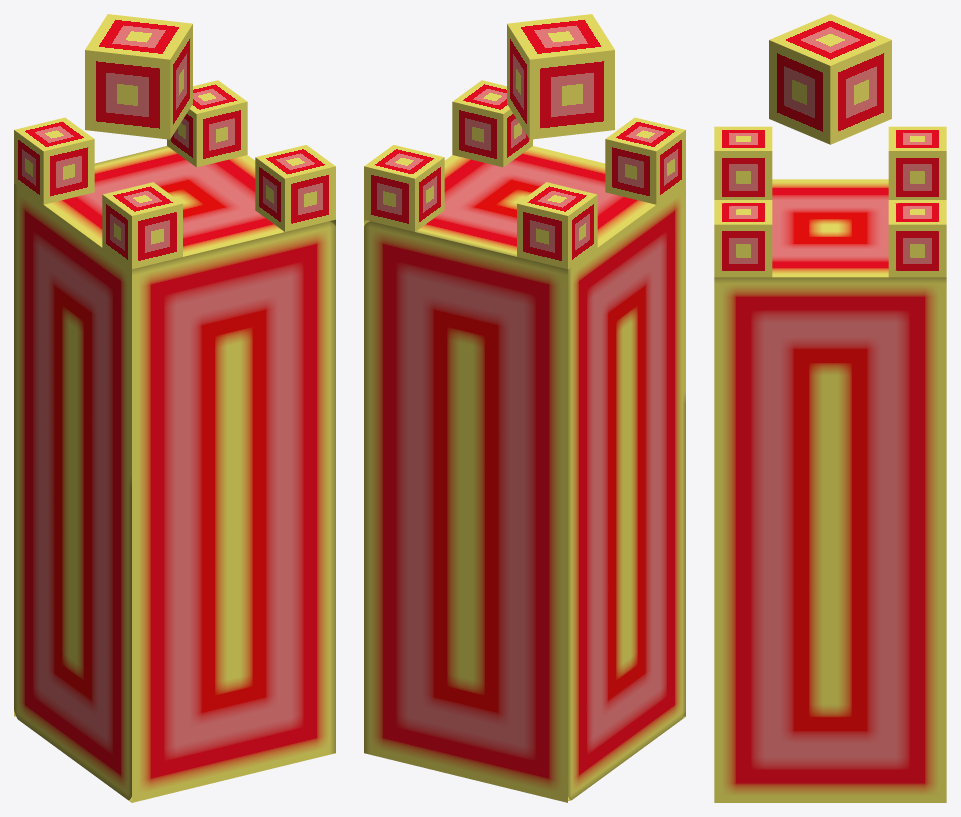
File: Fire Tower.fbx
The picture shows the model from 3 angles, left to right: view 1: azimuth 30°, elevation 25°; view 2: azimuth 150°, elevation 25°; view 3: azimuth 270°, elevation 25°; orthographic projection.
Parts seen in each view (by area): view 1: Base, Rift, SW Corner, SE Corner, NE Corner, NW Corner; view 2: Base, Rift, SW Corner, SE Corner, NW Corner, NE Corner; view 3: Base, Rift, NE Corner, NW Corner, SW Corner, SE Corner.
Boxes of the visible parts, bbox=[...] form: Base: bbox=[14, 146, 335, 802]; Rift: bbox=[85, 14, 192, 139]; SW Corner: bbox=[14, 117, 94, 204]; SE Corner: bbox=[102, 182, 182, 269]; NE Corner: bbox=[255, 145, 335, 231]; NW Corner: bbox=[167, 80, 247, 167]; Base: bbox=[364, 146, 685, 802]; Rift: bbox=[507, 14, 614, 139]; SW Corner: bbox=[517, 182, 597, 269]; SE Corner: bbox=[605, 117, 685, 204]; NW Corner: bbox=[364, 145, 444, 231]; NE Corner: bbox=[452, 80, 532, 167]; Base: bbox=[714, 179, 946, 802]; Rift: bbox=[769, 14, 891, 144]; NE Corner: bbox=[714, 200, 772, 277]; NW Corner: bbox=[888, 200, 946, 277]; SW Corner: bbox=[888, 126, 946, 199]; SE Corner: bbox=[714, 126, 772, 199].
Bounding box in the file's own units: 25 × 82.81 × 25.
Materials: 3 (3 with a texture image).
